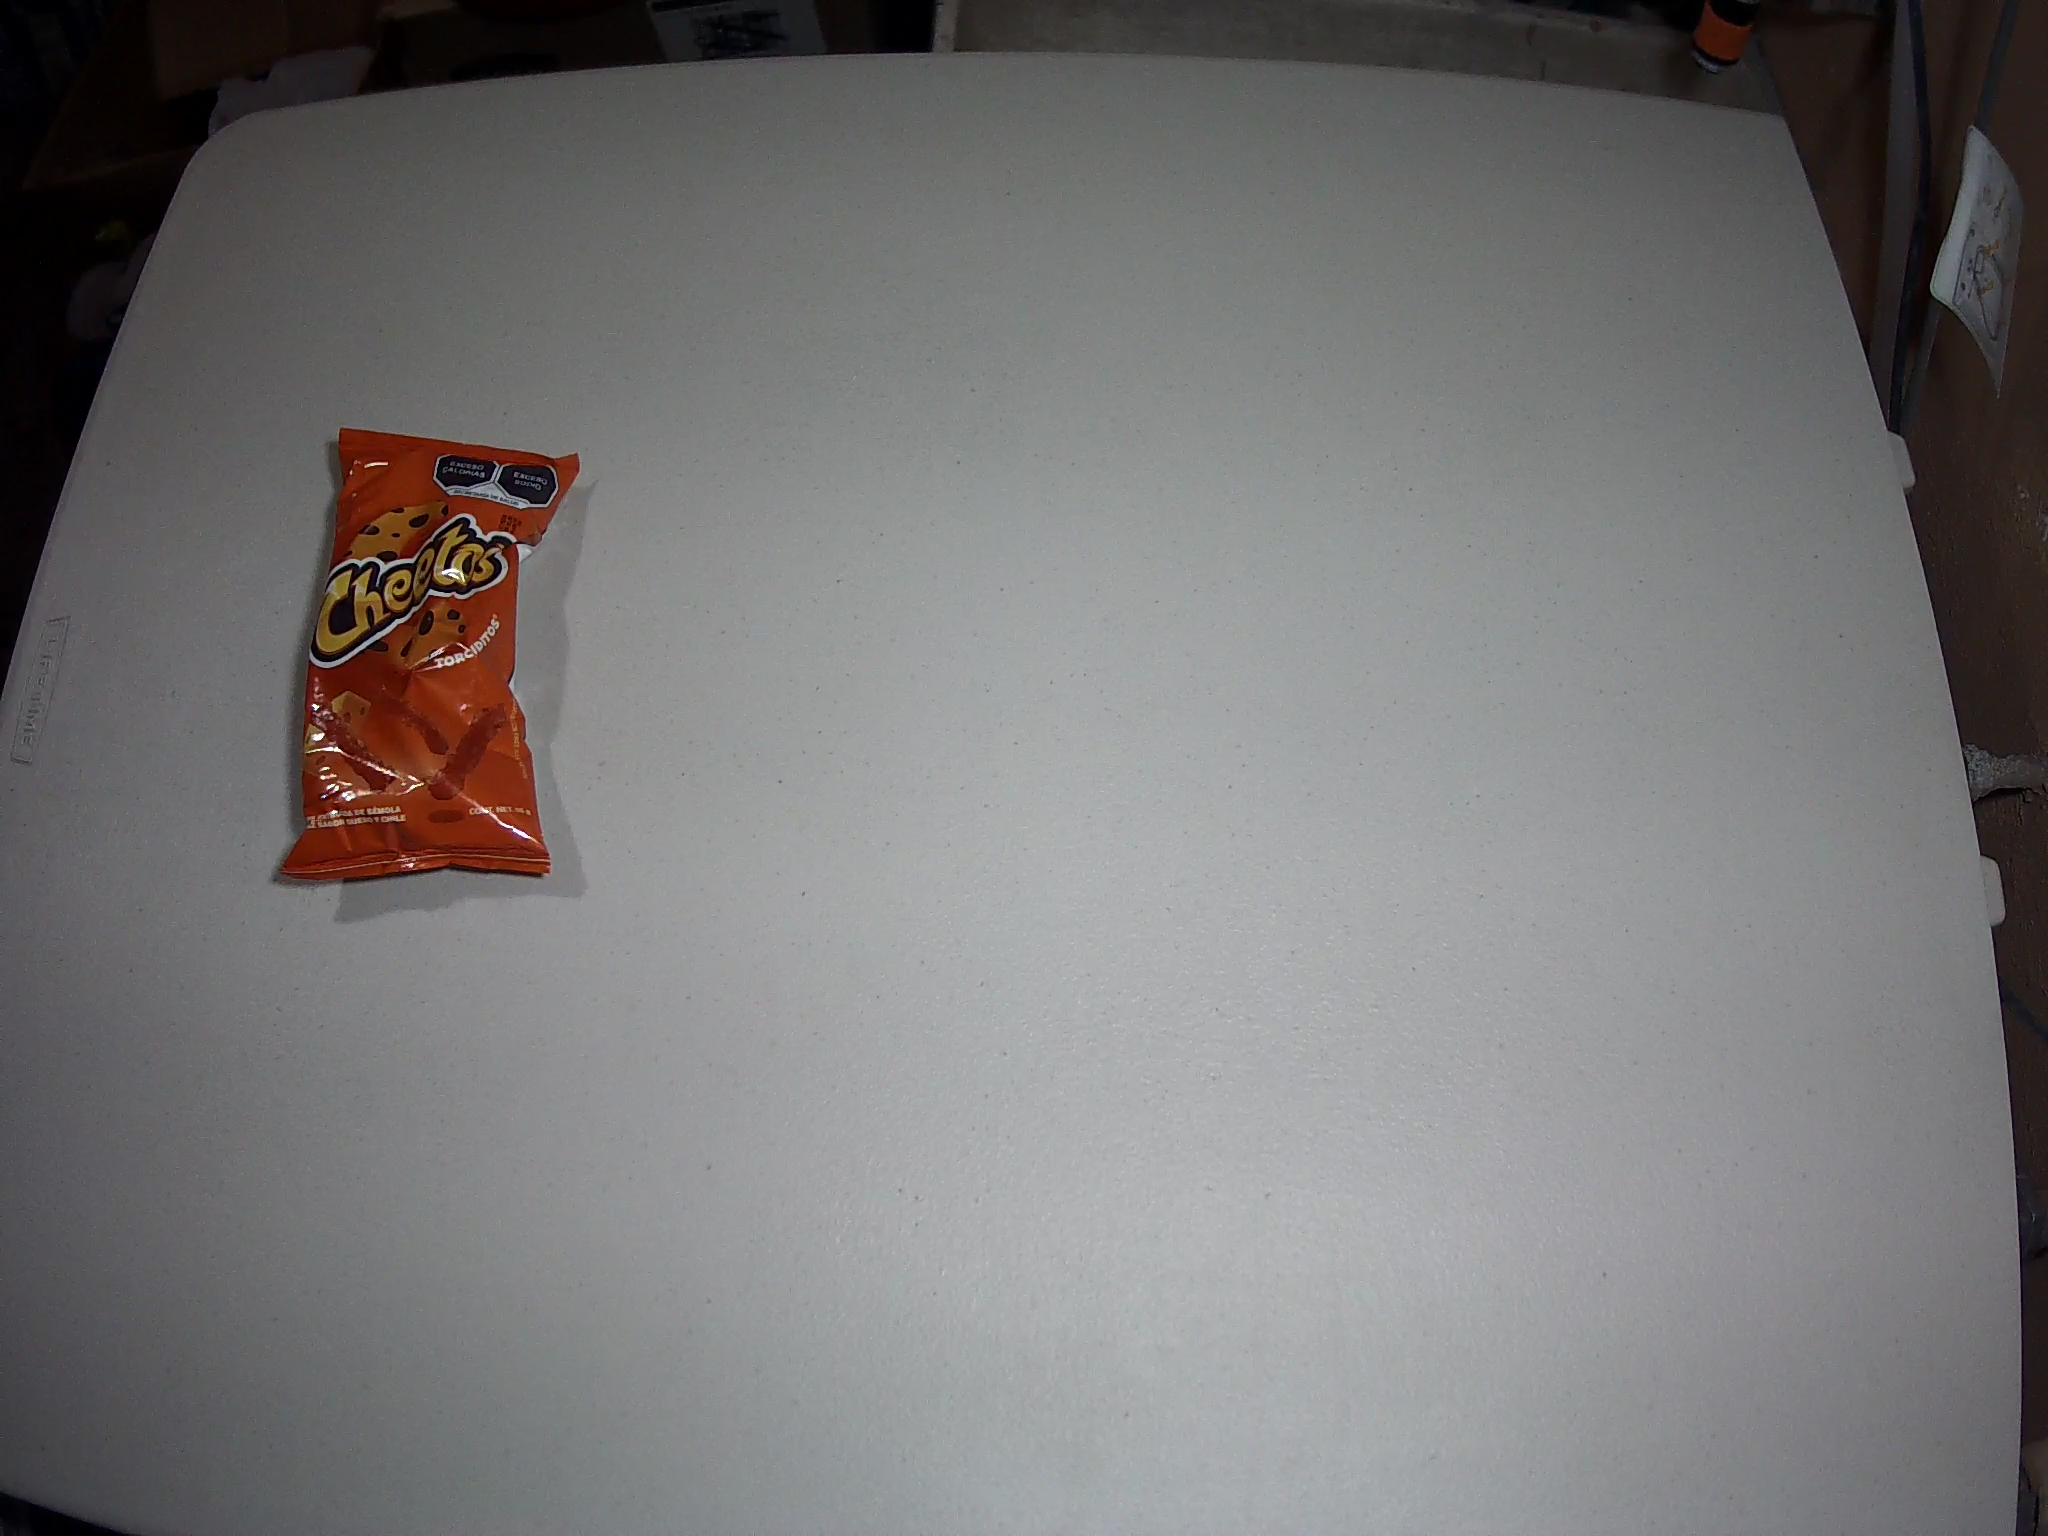CheetosTorciditos_55_F: (279, 429, 581, 883)
